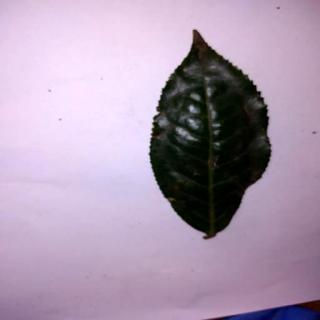Bird Eye Spot: (150, 31, 274, 242)
